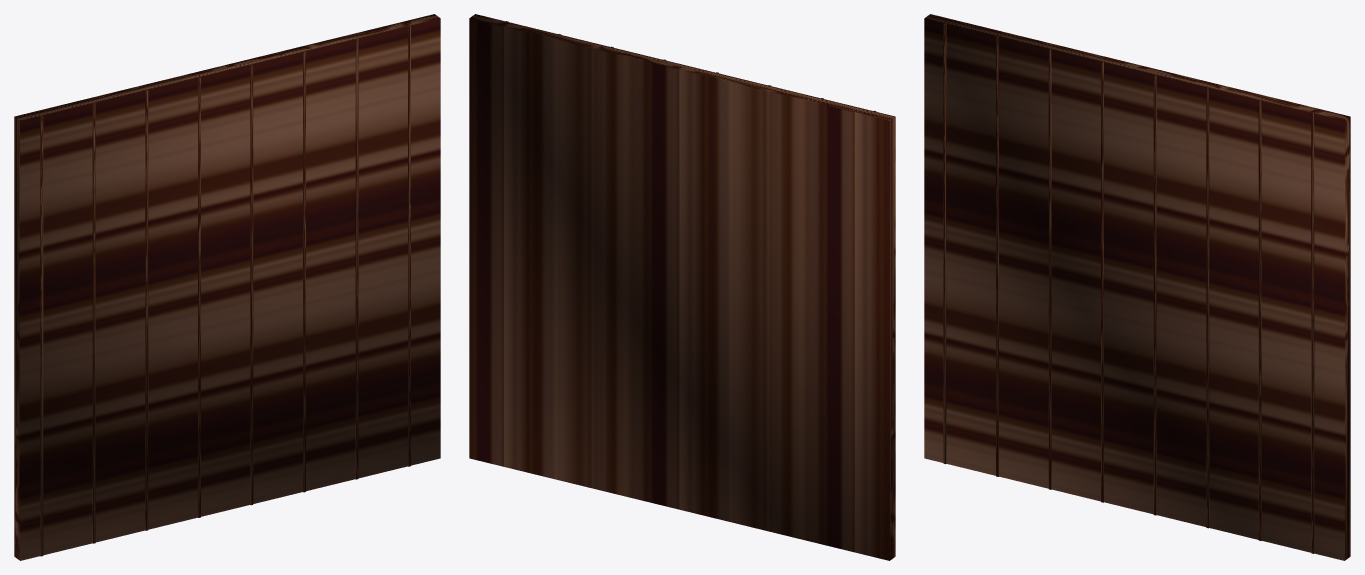
File: ARCH_FLOOR_WOOD_TILE_001.glb
3 renders of one model, left to right at view 1: azimuth 30°, elevation 25°; view 2: azimuth 150°, elevation 25°; view 3: azimuth 330°, elevation 25°, orthographic.
Visible parts, largest first — view 1: wood_floor_000, plank_line_001, plank_line_002, plank_line_003, plank_line_005, plank_line_007, plank_line_006, plank_line_004, plank_line_008; view 2: wood_floor_000; view 3: wood_floor_000, plank_line_001, plank_line_005, plank_line_003, plank_line_006, plank_line_008, plank_line_007, plank_line_002, plank_line_004.
Boxes of the visible parts, x1,y1,x2,y2 form: wood_floor_000: (14,14,440,560); plank_line_001: (40,115,43,556); plank_line_002: (92,103,95,543); plank_line_003: (145,90,148,530); plank_line_005: (250,64,253,505); plank_line_007: (355,39,358,479); plank_line_006: (303,51,305,492); plank_line_004: (198,77,200,517); plank_line_008: (408,26,410,466); wood_floor_000: (469,14,895,560); wood_floor_000: (924,14,1350,560); plank_line_001: (943,23,946,464); plank_line_005: (1153,74,1156,515); plank_line_003: (1048,49,1051,489); plank_line_006: (1206,87,1209,528); plank_line_008: (1311,113,1314,553); plank_line_007: (1258,100,1261,540); plank_line_002: (996,36,998,476); plank_line_004: (1101,62,1103,502).
Bounding box in the file's own units: 2 × 2 × 0.055.
2 materials, 2 textured.
